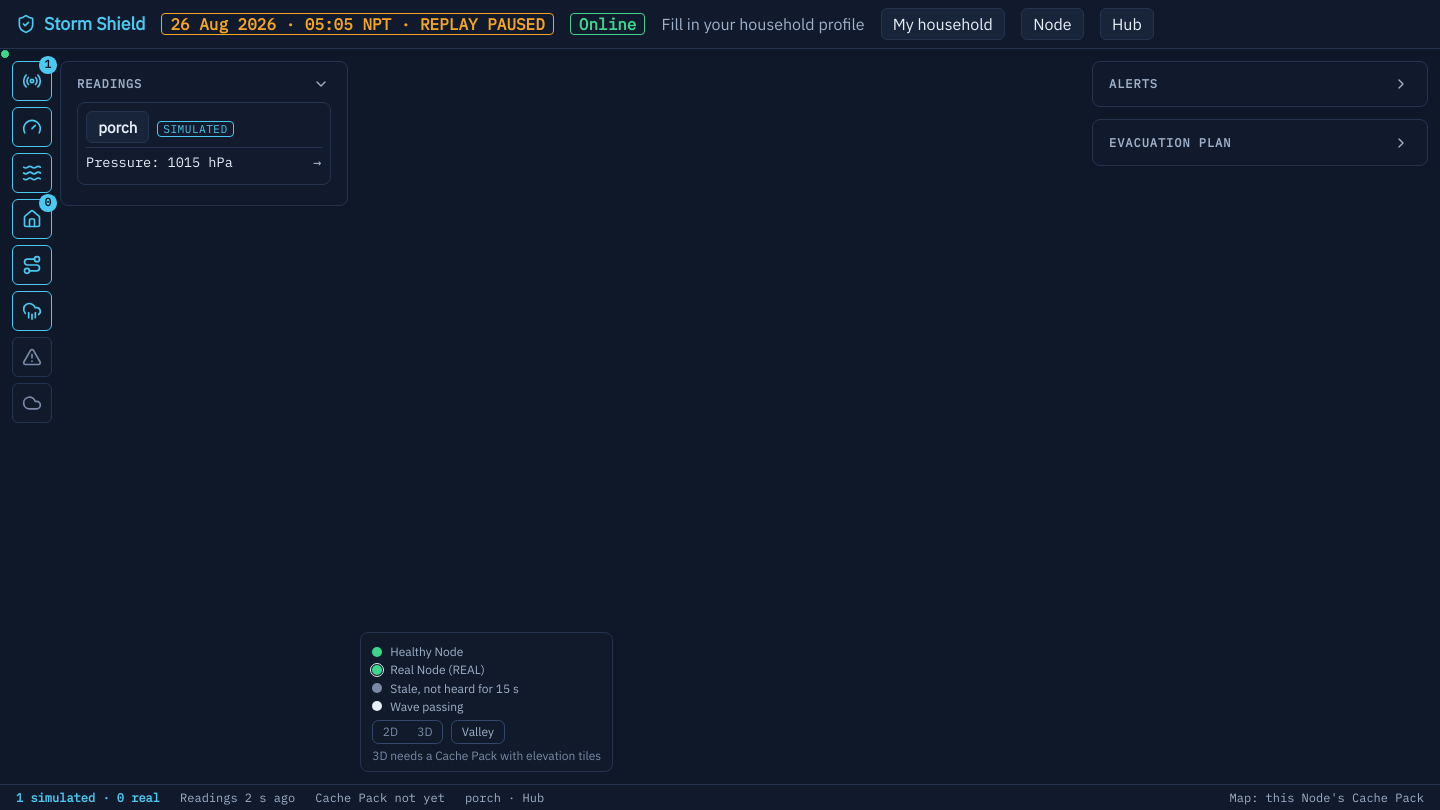
it: the phone layout › keeps one Panel open per side on a tablet
Expected: the text "Online" is shown, [570,13,645,35]
Click the button named "Alerts" at (32, 357), box [12,337,52,377]
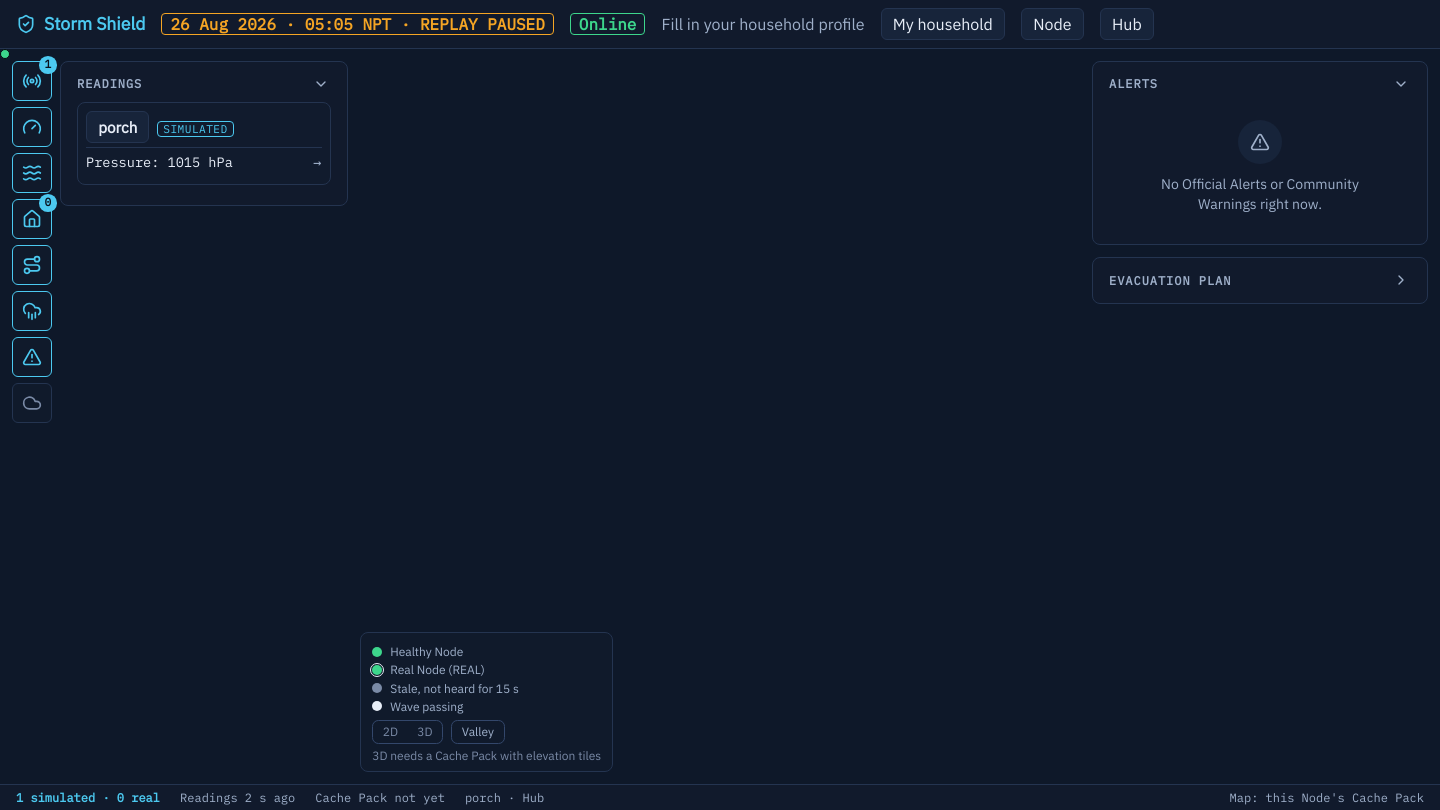
Click the button named "Expand Evacuation Plan" at (1401, 280), box [1390,270,1411,291]
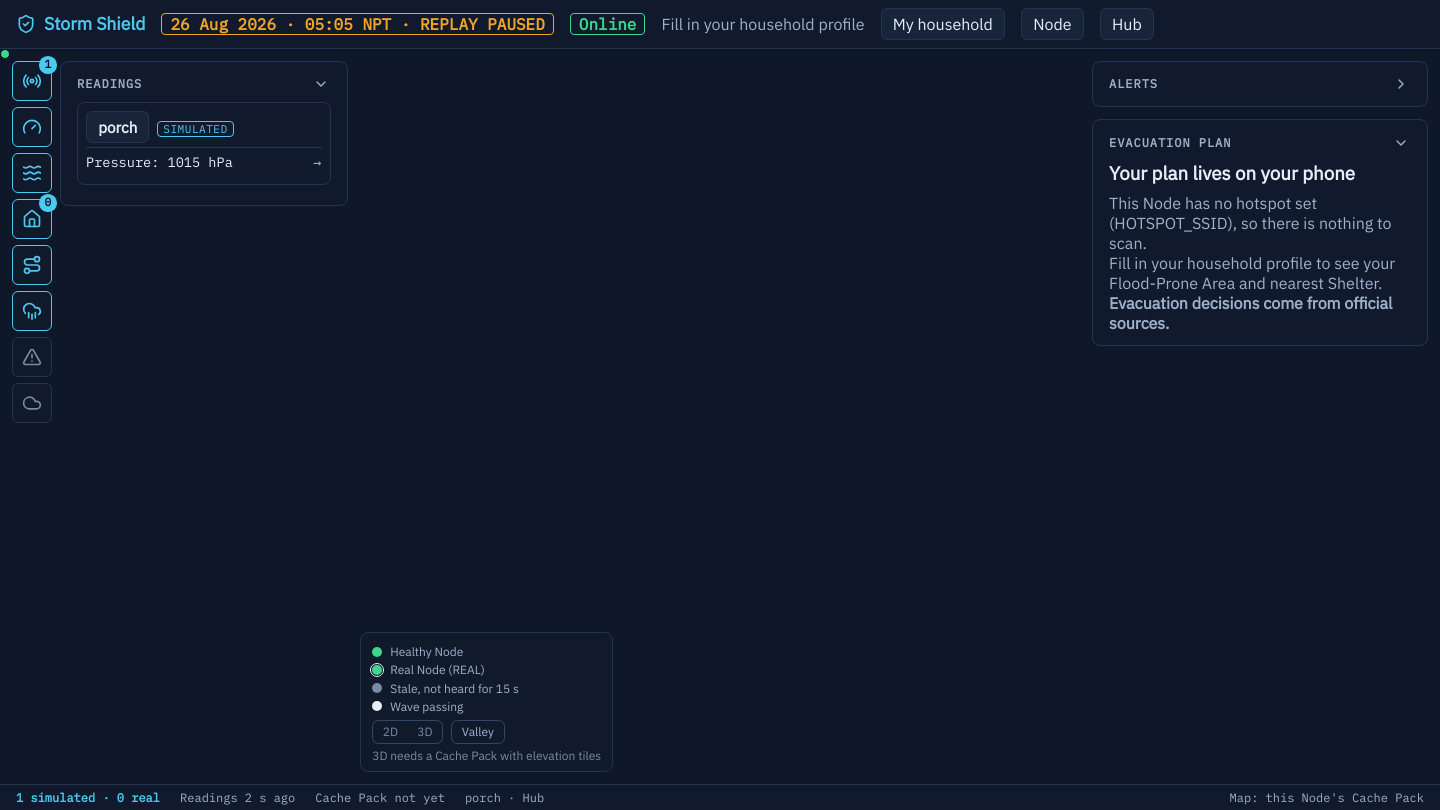
Now the button named "Collapse Evacuation Plan" is shown, box [1390,132,1411,153]
Now the button named "Expand Alerts" is shown, box [1390,74,1411,94]
